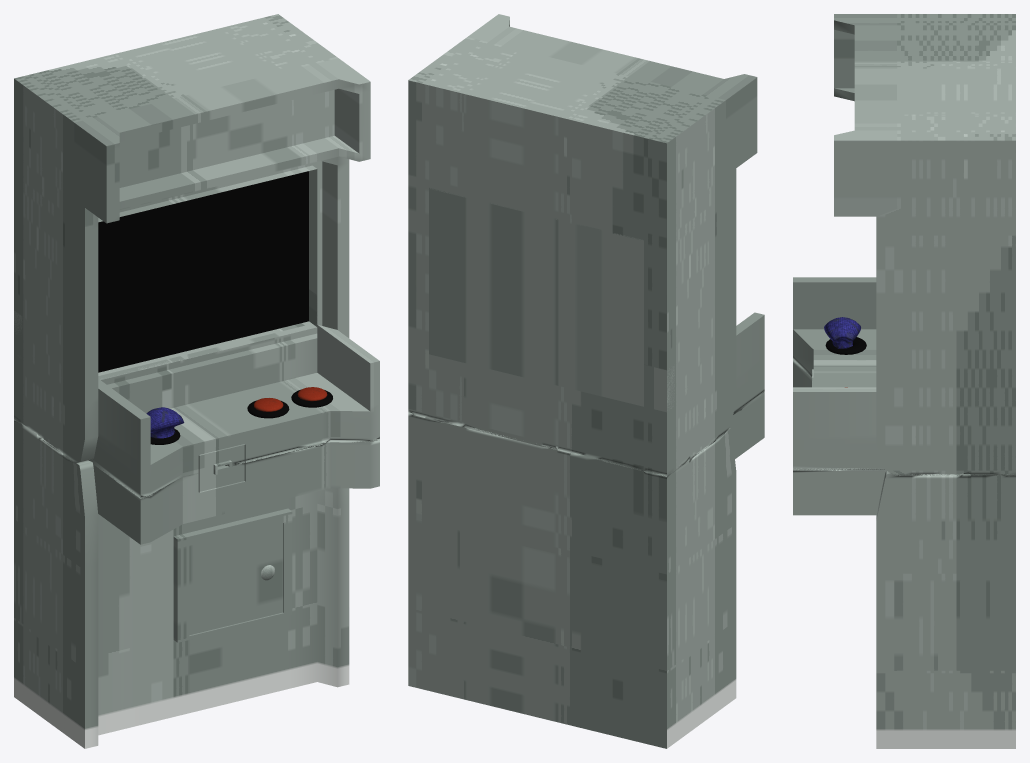
File: Arcade_2.fbx
The picture shows the model from 3 angles, left to right: view 1: azimuth 30°, elevation 25°; view 2: azimuth 150°, elevation 25°; view 3: azimuth 270°, elevation 25°; orthographic projection. The views are drawn at different scales.
Visible parts, largest first — view 1: macchina_arcade.006; view 2: macchina_arcade.006; view 3: macchina_arcade.006.
Part boxes in pixels (left/top/right/bottom): macchina_arcade.006: left=14, top=14, right=379, bottom=748; macchina_arcade.006: left=408, top=14, right=764, bottom=748; macchina_arcade.006: left=793, top=14, right=1015, bottom=748.
Size of the model in its own units: 0.7573 by 1.69 by 0.5622.
Materials: 4 (3 with a texture image).
